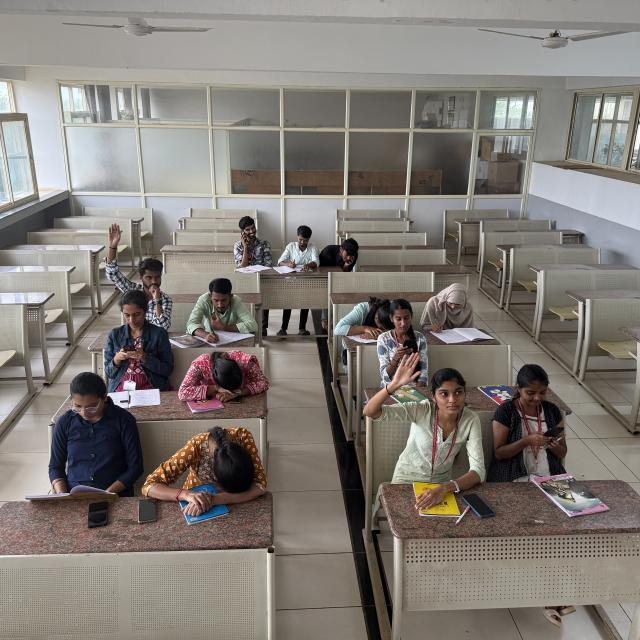Hand Rising: (360, 352, 484, 471), (99, 220, 178, 321)
Reading: (30, 372, 134, 504)
Sleeping: (152, 425, 268, 500), (183, 344, 269, 402), (333, 292, 403, 343)
Using Phone: (487, 360, 571, 462), (94, 287, 167, 378), (375, 302, 426, 382), (230, 213, 274, 267)
Writing: (187, 275, 257, 345), (423, 280, 486, 343), (275, 225, 319, 276)
